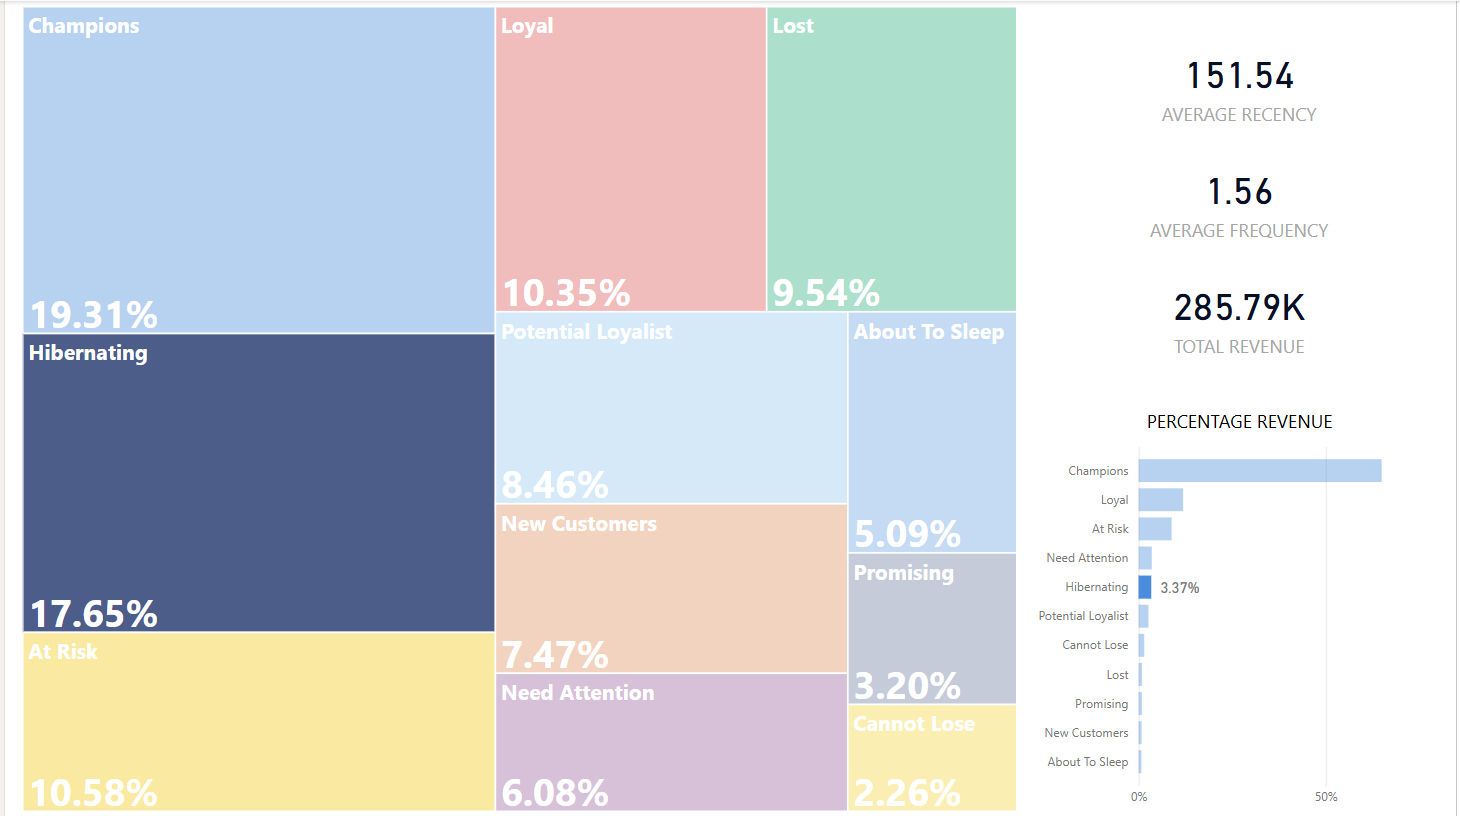

What the dashboard file says about the page in this screenshot:
{"tool":"powerbi","page":{"name":"Page 1","canvas":[1280,720],"ordinal":0},"visuals":[{"type":"treemap","fields":{"Group":["Query2.segment"],"Values":["Query2.Percentage Count Customers"]},"box":[10.5,0,887.4,720.1],"z":0},{"type":"clusteredBarChart","title":"PERCENTAGE REVENUE","fields":{"Y":["Query2.Percentage Revenue"],"Category":["Query2.segment"]},"box":[897.9,360.1,382.1,360.1],"z":1},{"type":"card","fields":{"Values":["Avg(Query2.recency)"]},"box":[897.9,22.1,382.1,102.2],"z":2},{"type":"card","fields":{"Values":["Avg(Query2.frequency)"]},"box":[897.9,124.3,382.1,102.2],"z":3},{"type":"card","fields":{"Values":["Sum(Query2.monetary)"]},"box":[897.9,226.5,382.1,102.2],"z":4}]}

Visuals, with their boxes in screenshot pixels (x1, y1, x2, y2), scaled from the page's 1280x720 canvas onto the 1460x816 screenshot:
treemap - Query2.segment x Query2.Percentage Count Customers: rect(12, 0, 1024, 815)
"PERCENTAGE REVENUE" clusteredBarChart: rect(1024, 408, 1459, 815)
card - Avg(Query2.recency): rect(1024, 25, 1459, 141)
card - Avg(Query2.frequency): rect(1024, 141, 1459, 257)
card - Sum(Query2.monetary): rect(1024, 257, 1459, 373)
